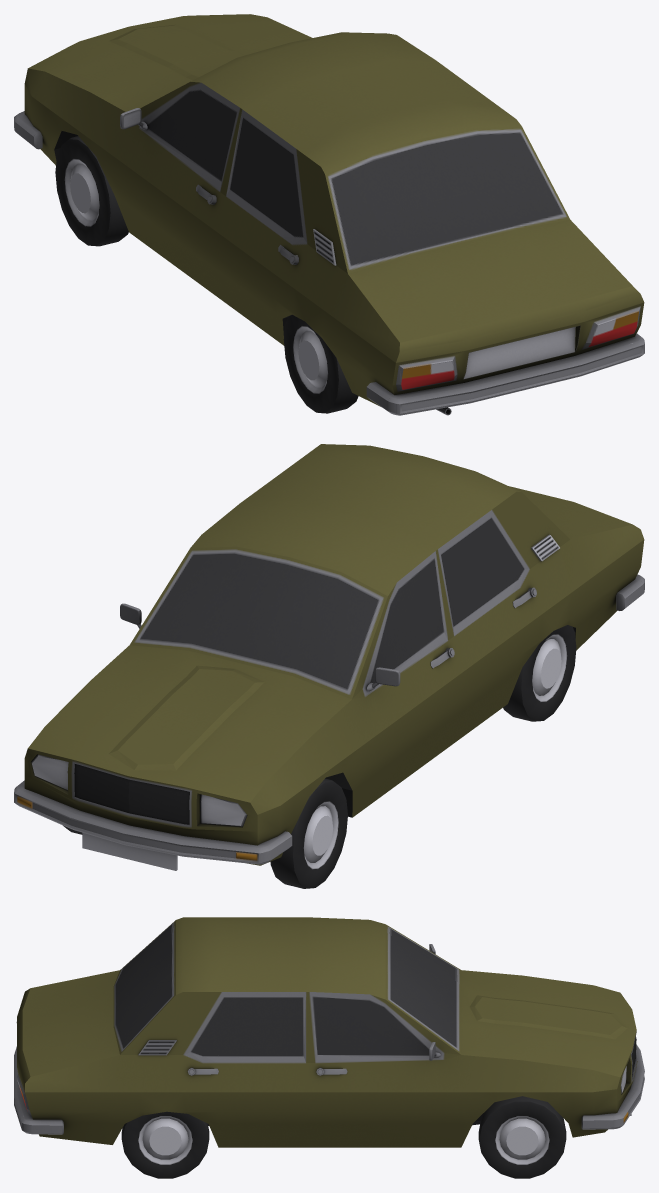
File: Car07.FBX
The picture shows the model from 3 angles, top to bottom: view 1: azimuth 30°, elevation 25°; view 2: azimuth 150°, elevation 25°; view 3: azimuth 270°, elevation 25°; orthographic projection. The views are drawn at different scales.
Parts seen in each view (by area): view 1: Body, FLWheel, RLWheel; view 2: Body, FLWheel, RLWheel; view 3: Body, FRWheel, RRWheel.
Part boxes in pixels (x1=…): Body: x1=14, y1=14, x2=644, y2=415; FLWheel: x1=55, y1=136, x2=128, y2=246; RLWheel: x1=283, y1=315, x2=358, y2=413; Body: x1=14, y1=444, x2=644, y2=870; FLWheel: x1=270, y1=778, x2=347, y2=888; RLWheel: x1=503, y1=625, x2=576, y2=721; Body: x1=14, y1=917, x2=644, y2=1147; FRWheel: x1=478, y1=1096, x2=566, y2=1178; RRWheel: x1=121, y1=1111, x2=209, y2=1178.
Bounding box in the file's own units: 1.73 × 1.45 × 4.33.
2 materials, 2 textured.
